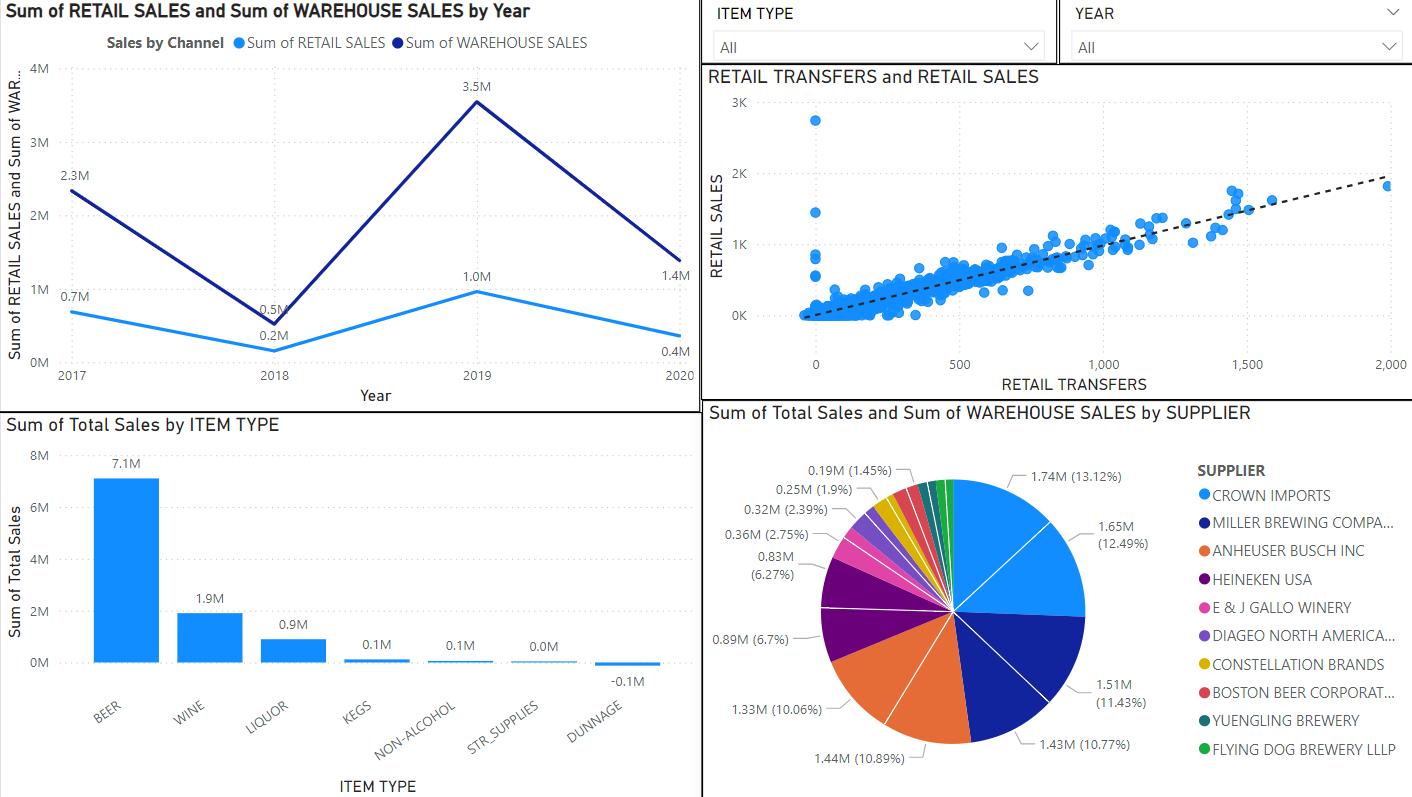

The page's visual inventory and layout, read from the dashboard file:
{"tool":"powerbi","page":{"name":"Page 1","canvas":[1280,720],"ordinal":0},"visuals":[{"type":"lineChart","fields":{"Category":["Warehouse_and_Retail_Sales.Date.Variation.Date Hierarchy.Year","Warehouse_and_Retail_Sales.Date.Variation.Date Hierarchy.Quarter","Warehouse_and_Retail_Sales.Date.Variation.Date Hierarchy.Month","Warehouse_and_Retail_Sales.Date.Variation.Date Hierarchy.Day"],"Y":["Sum(Warehouse_and_Retail_Sales.RETAIL SALES)","Sum(Warehouse_and_Retail_Sales.WAREHOUSE SALES)"]},"box":[11.6,0,628.4,370.5],"z":0},{"type":"slicer","fields":{"Values":["Warehouse_and_Retail_Sales.ITEM TYPE"]},"box":[640,0,319.4,59.2],"z":2},{"type":"clusteredColumnChart","fields":{"Category":["Warehouse_and_Retail_Sales.ITEM TYPE"],"Y":["Sum(Warehouse_and_Retail_Sales.Total Sales)"]},"box":[11.6,370.5,629.5,349.6],"z":3},{"type":"pieChart","fields":{"Y":["Sum(Warehouse_and_Retail_Sales.Total Sales)","Sum(Warehouse_and_Retail_Sales.WAREHOUSE SALES)"],"Category":["Warehouse_and_Retail_Sales.SUPPLIER"]},"box":[641.2,360.1,638.8,360.1],"z":4},{"type":"scatterChart","fields":{"Y":["Warehouse_and_Retail_Sales.RETAIL SALES"],"X":["Warehouse_and_Retail_Sales.RETAIL TRANSFERS"]},"box":[640.3,59.1,638.5,300.9],"z":5},{"type":"slicer","fields":{"Values":["Warehouse_and_Retail_Sales.YEAR"]},"box":[960.6,0,319.4,59.2],"z":6}]}

Visuals, with their boxes in screenshot pixels (x1, y1, x2, y2), scaled from the page's 1280x720 canvas onto the 1412x797 screenshot:
lineChart - Warehouse_and_Retail_Sales.Date.Variation.Date Hierarchy.Year x Warehouse_and_Retail_Sales.Date.Variation.Date Hierarchy.Quarter: [13, 0, 706, 410]
slicer - Warehouse_and_Retail_Sales.ITEM TYPE: [706, 0, 1058, 66]
clusteredColumnChart - Warehouse_and_Retail_Sales.ITEM TYPE x Sum(Warehouse_and_Retail_Sales.Total Sales): [13, 410, 707, 796]
pieChart - Sum(Warehouse_and_Retail_Sales.Total Sales) x Sum(Warehouse_and_Retail_Sales.WAREHOUSE SALES): [707, 399, 1411, 796]
scatterChart - Warehouse_and_Retail_Sales.RETAIL SALES x Warehouse_and_Retail_Sales.RETAIL TRANSFERS: [706, 65, 1411, 398]
slicer - Warehouse_and_Retail_Sales.YEAR: [1060, 0, 1411, 66]
